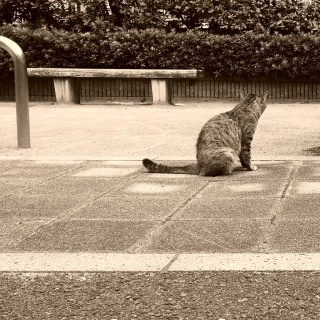Cat: (141, 90, 267, 177)
